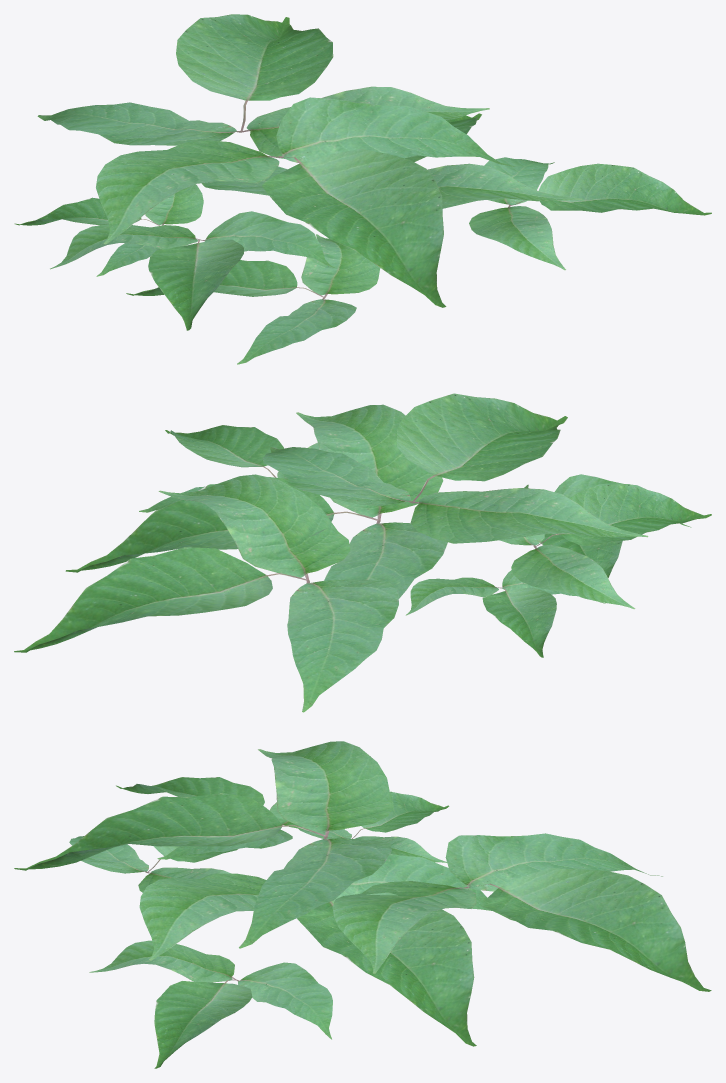
The model's file is PoisonIvy3.fbx.
3 views of the same model, one above another, from view 1: azimuth 30°, elevation 25°; view 2: azimuth 150°, elevation 25°; view 3: azimuth 270°, elevation 25° (orthographic). The views are drawn at different scales.
Visible parts, largest first — view 1: PoisonIvy3; view 2: PoisonIvy3; view 3: PoisonIvy3.
Part boxes in pixels (x1,y1,x2,y2): PoisonIvy3: (14,14,711,364); PoisonIvy3: (14,393,711,712); PoisonIvy3: (14,741,711,1068).
Size of the model in its own units: 36.42 by 6.87 by 40.11.
